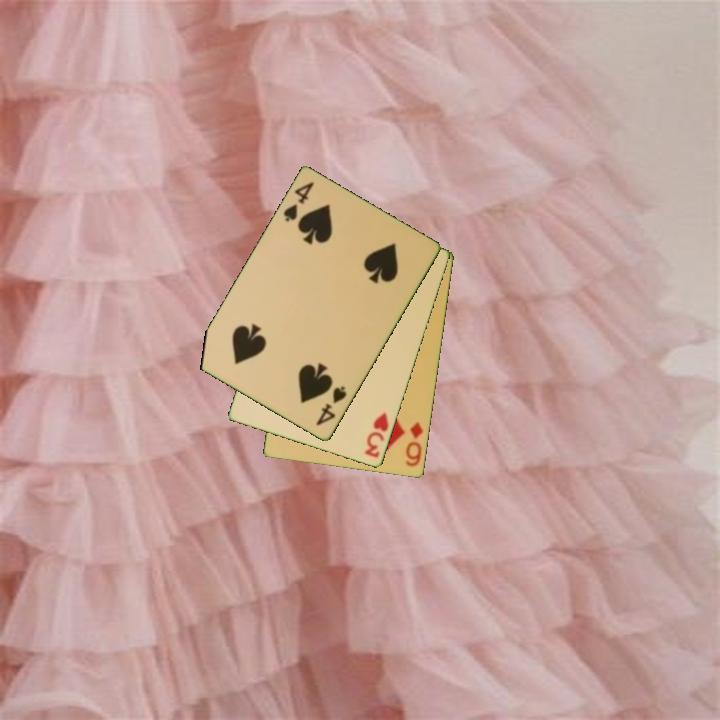3h: (361, 409, 392, 461)
4s: (313, 383, 350, 429), (280, 179, 317, 225)
6d: (402, 419, 426, 470)
